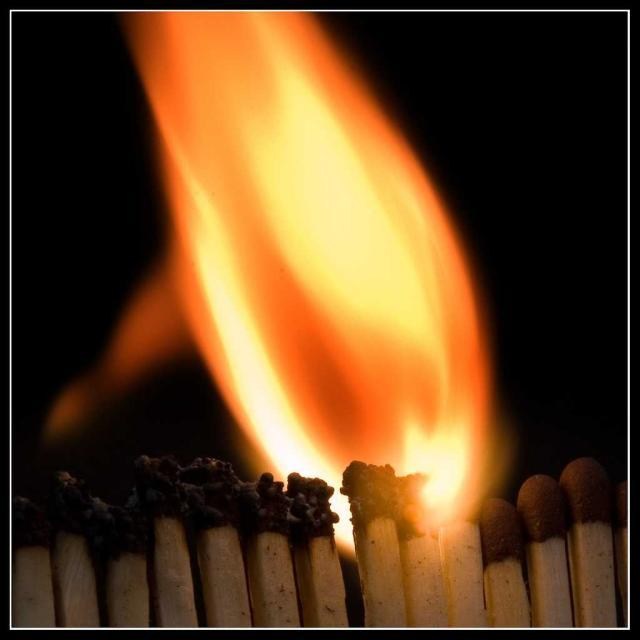Fire: (286, 142, 392, 294), (411, 436, 475, 514), (222, 318, 272, 406)
